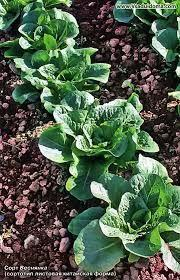Healthy-Pechay: (39, 93, 175, 273), (3, 3, 105, 109)
